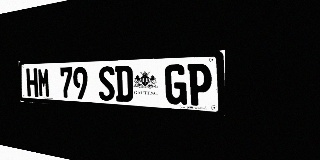7: (59, 67, 73, 99)
9: (73, 67, 88, 100)
D: (115, 65, 133, 102)
G: (165, 64, 187, 105)
H: (26, 68, 38, 97)
M: (37, 68, 50, 98)
P: (187, 63, 212, 106)
S: (98, 66, 115, 101)
